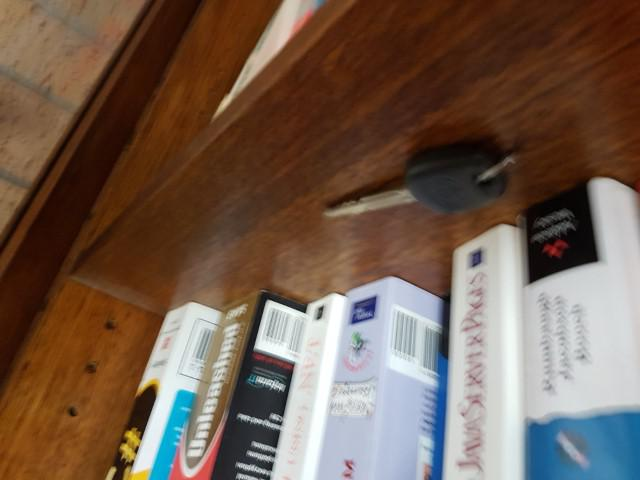key: (318, 142, 521, 231)
